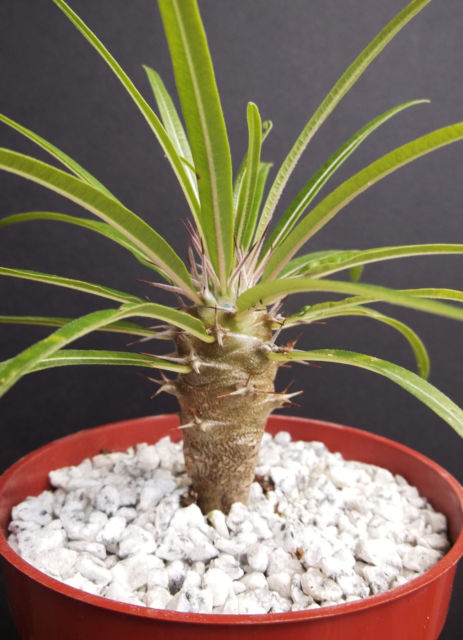Pachypodium geayi: (145, 223, 317, 513)
